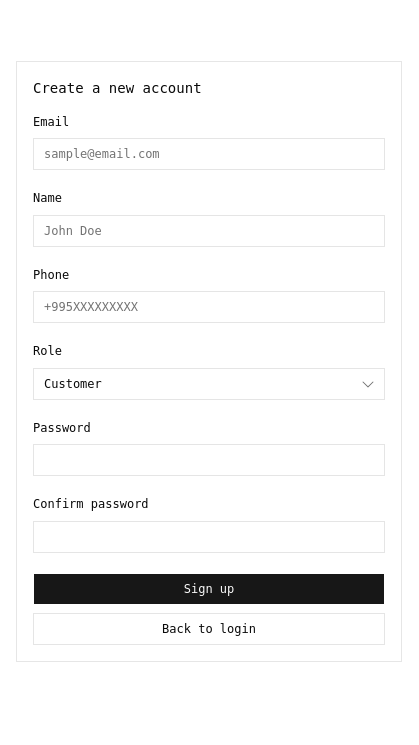
Scenario: Signup › Shows validation error when email is empty
In the password field labelled "Password": (209, 460) [33,444,385,476], type "Testuser@1234!"
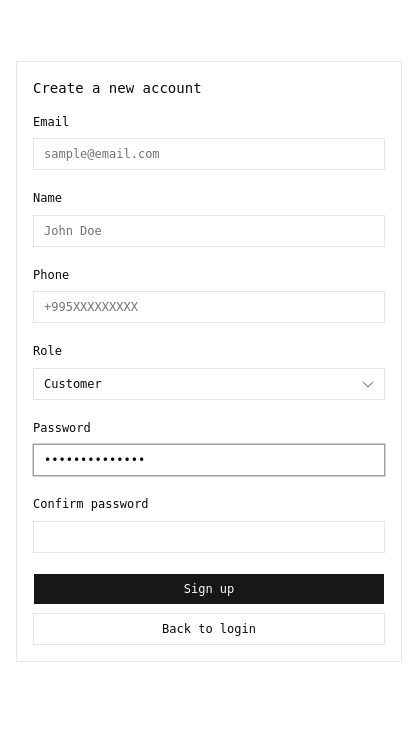
In the password field labelled "Confirm password": (209, 536) [33,520,385,552], type "Testuser@1234!"
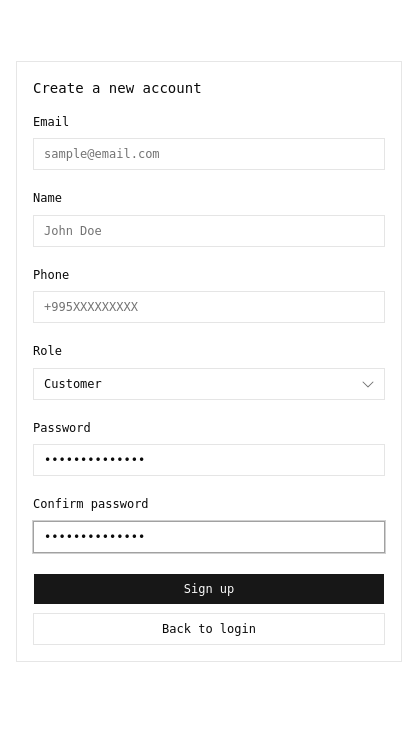
Click the button "Sign up": (209, 588) [33,572,385,604]
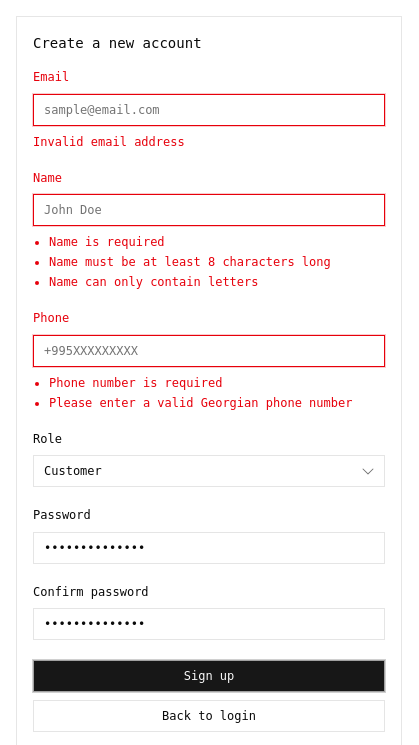
Expected: the text "Invalid email address" is shown, [33,134,185,148]
